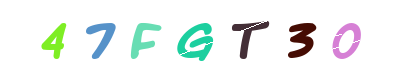0: (299, 0, 379, 80)
3: (239, 0, 319, 80)
4: (15, 0, 95, 80)
7: (75, 0, 155, 80)
F: (105, 0, 185, 80)
G: (156, 0, 236, 80)
T: (156, 0, 236, 80)
